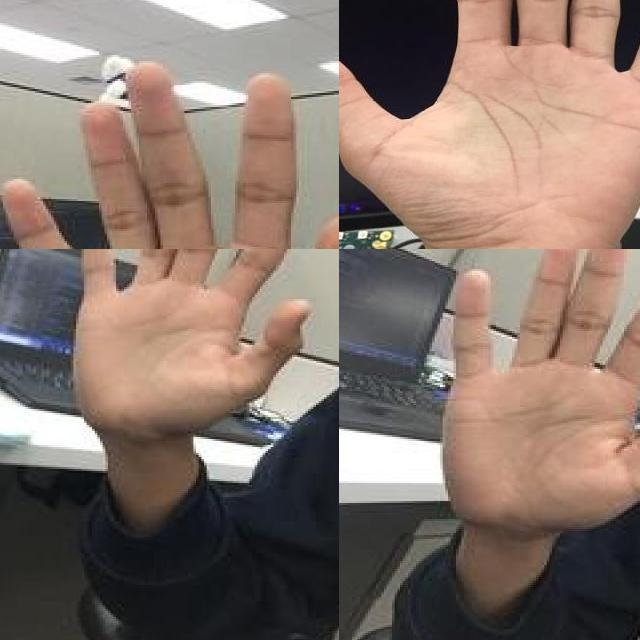no-gloves: (339, 0, 640, 249), (0, 63, 339, 249), (434, 249, 640, 533), (65, 249, 316, 435)
